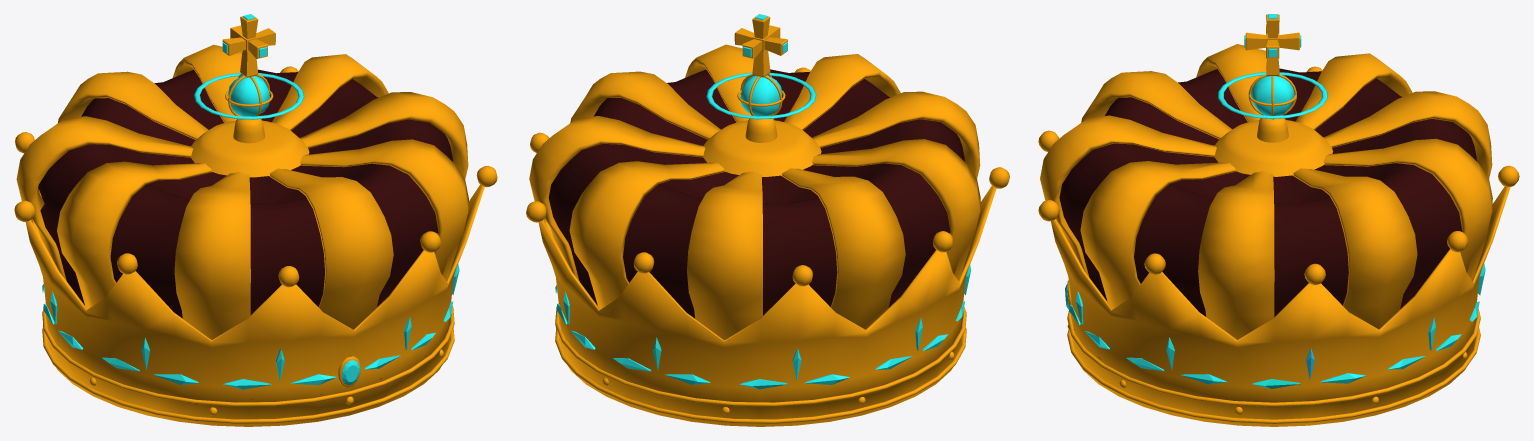
Rendered from Oukan.obj.
3 views of the same model, side by side, from view 1: azimuth 30°, elevation 25°; view 2: azimuth 150°, elevation 25°; view 3: azimuth 270°, elevation 25° (orthographic).
Visible parts, largest first — view 1: 立方体.010, 立方体.020, 立方体.013; view 2: 立方体.010, 立方体.020, 立方体.013; view 3: 立方体.010, 立方体.020, 立方体.013.
Boxes of the visible parts, bbox=[...] form: 立方体.010: bbox=[14, 14, 497, 426]; 立方体.020: bbox=[38, 69, 452, 399]; 立方体.013: bbox=[42, 14, 459, 389]; 立方体.010: bbox=[526, 14, 1009, 426]; 立方体.020: bbox=[548, 69, 964, 318]; 立方体.013: bbox=[555, 14, 971, 389]; 立方体.010: bbox=[1038, 14, 1519, 426]; 立方体.020: bbox=[1059, 68, 1476, 359]; 立方体.013: bbox=[1065, 14, 1485, 388].
Bounding box in the file's own units: 2.4 × 1.77 × 2.37.
